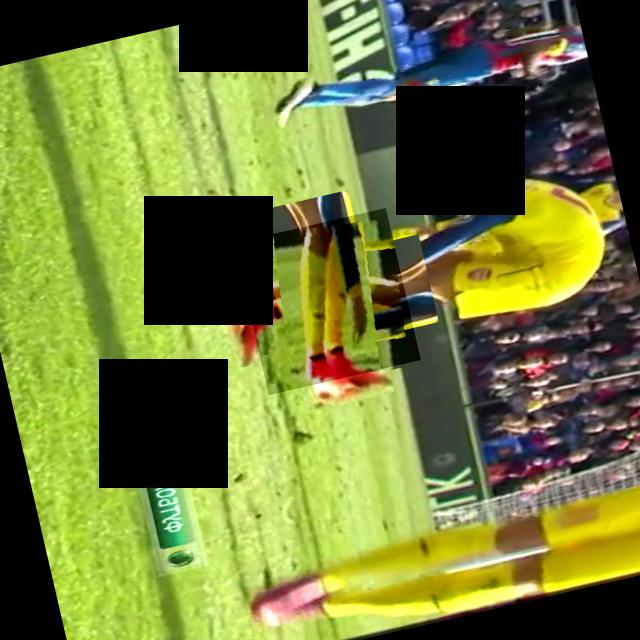soccer-player: (232, 208, 419, 395)
